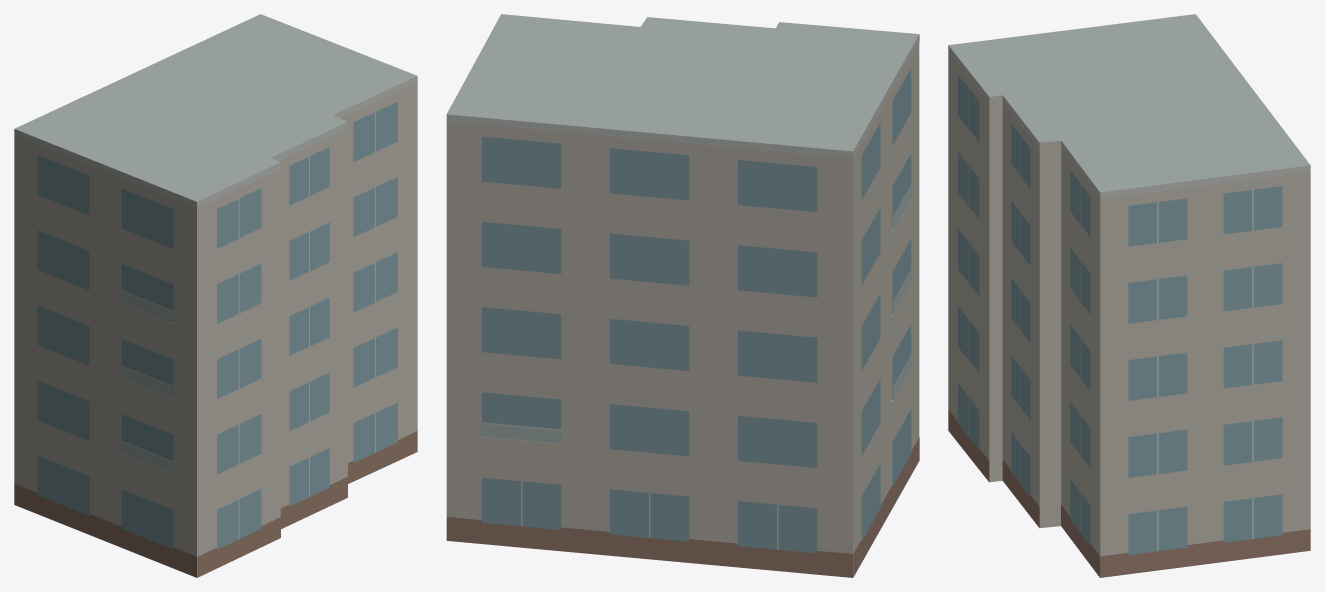
The model's file is survey-upis-32924843.glb.
The picture shows the model from 3 angles, left to right: view 1: azimuth 30°, elevation 25°; view 2: azimuth 150°, elevation 25°; view 3: azimuth 270°, elevation 25°; orthographic projection. The views are drawn at different scales.
Parts seen in each view (by area): view 1: survey-upis-32924843.tmp; view 2: survey-upis-32924843.tmp; view 3: survey-upis-32924843.tmp.
Part boxes in pixels (left/top/right/bottom): survey-upis-32924843.tmp: left=14, top=14, right=417, bottom=577; survey-upis-32924843.tmp: left=446, top=14, right=919, bottom=577; survey-upis-32924843.tmp: left=948, top=14, right=1310, bottom=577.
Size of the model in its own units: 14.21 by 14.3 by 12.2.
